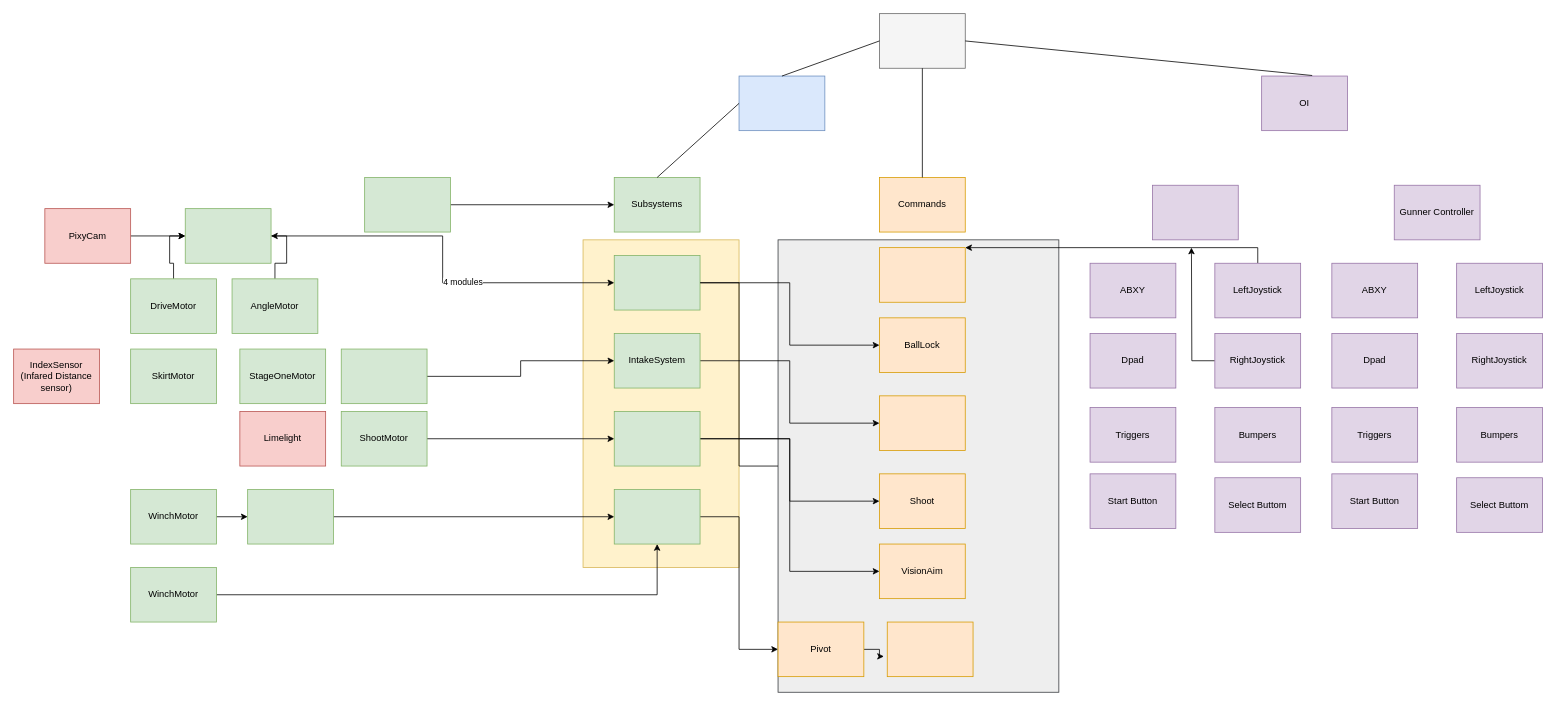
Some shapes in this 1556 by 706 pixel diagram are drawn without their labels. Each missing label, with the centre of its shape:
Climber: [656,516]
Components: [407,204]
Driver Controller: [1195,212]
Extend: [929,649]
Intake: [922,422]
PivotMotor: [290,516]
Robot: [922,40]
RobotMap: [781,103]
Shooter: [656,438]
StageTwoMotor: [383,376]
SwerveDrive: [656,282]
SwerveModule: [227,235]
TeleOpDrive: [922,274]
